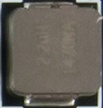Induktor: (1, 2, 101, 100)
